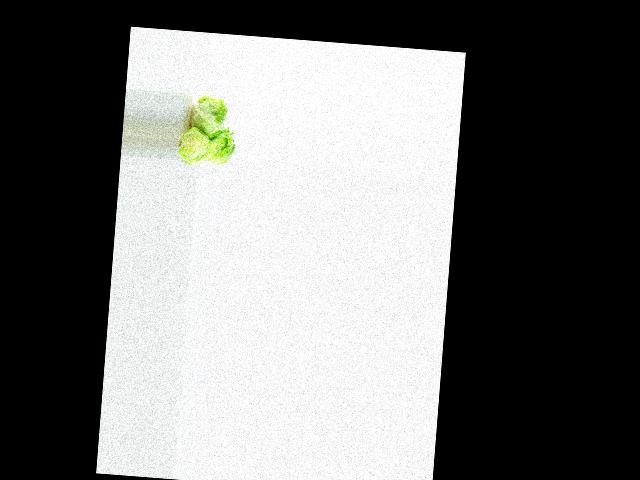lettuce: (203, 123, 240, 168)
